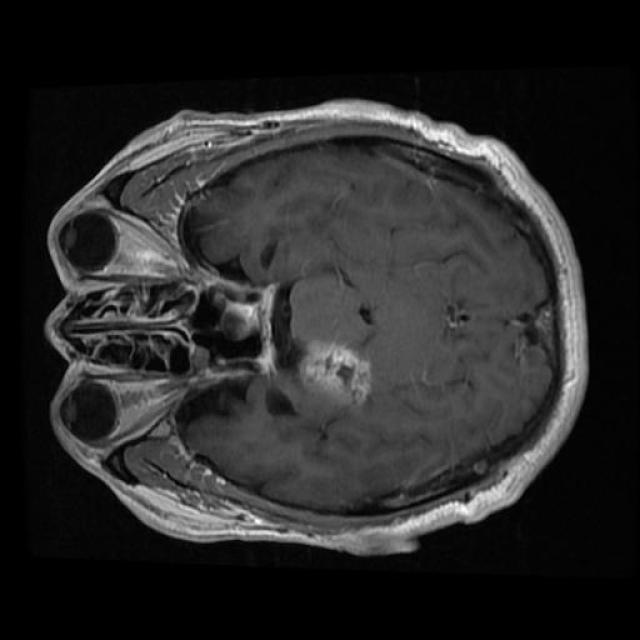Meningioma: (293, 341, 371, 408)
Pituitary: (210, 289, 260, 341)
